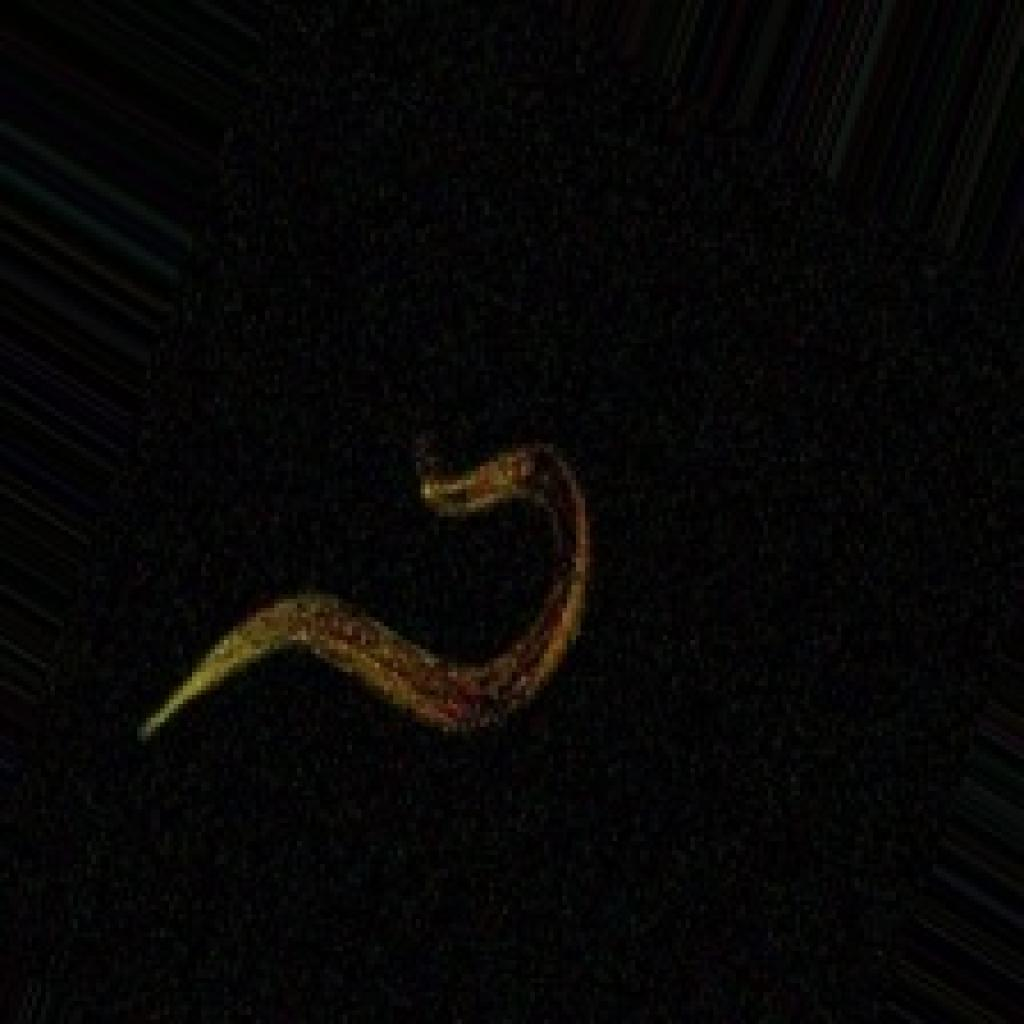Nematode: (128, 430, 594, 750)
